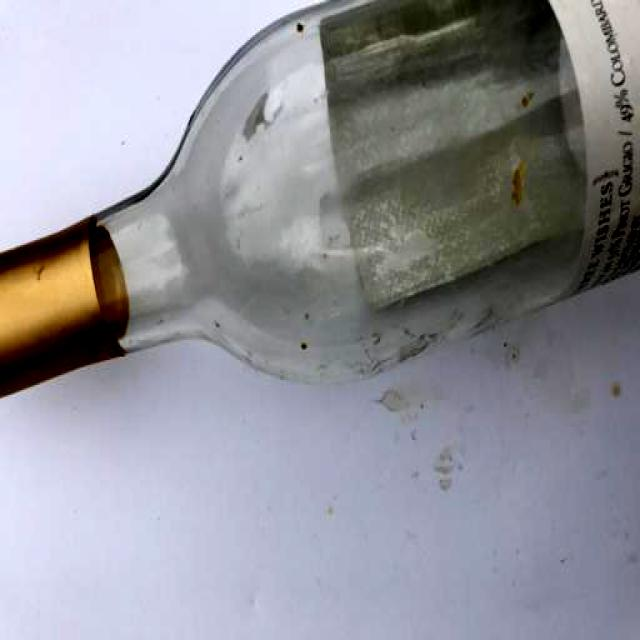Glass: (0, 0, 640, 408)
Metal: (0, 213, 131, 406)
